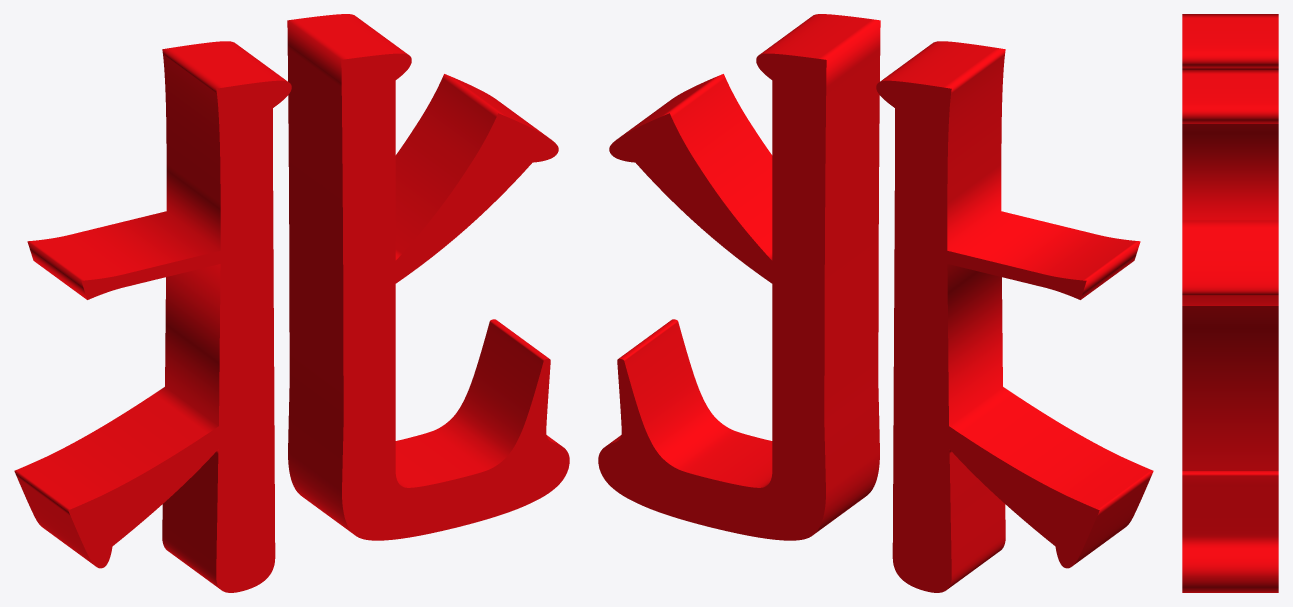
Rendered from north.glb.
3 views of the same model, side by side, from view 1: azimuth 30°, elevation 25°; view 2: azimuth 150°, elevation 25°; view 3: azimuth 270°, elevation 25° (orthographic). The views are drawn at different scales.
Parts seen in each view (by area): view 1: north; view 2: north; view 3: north.
Part boxes in pixels (x1,y1,x2,y2): north: [14, 14, 569, 592]; north: [598, 14, 1153, 592]; north: [1182, 14, 1278, 592].
Bounding box in the file's own units: 0.5362 × 0.52 × 0.1.
